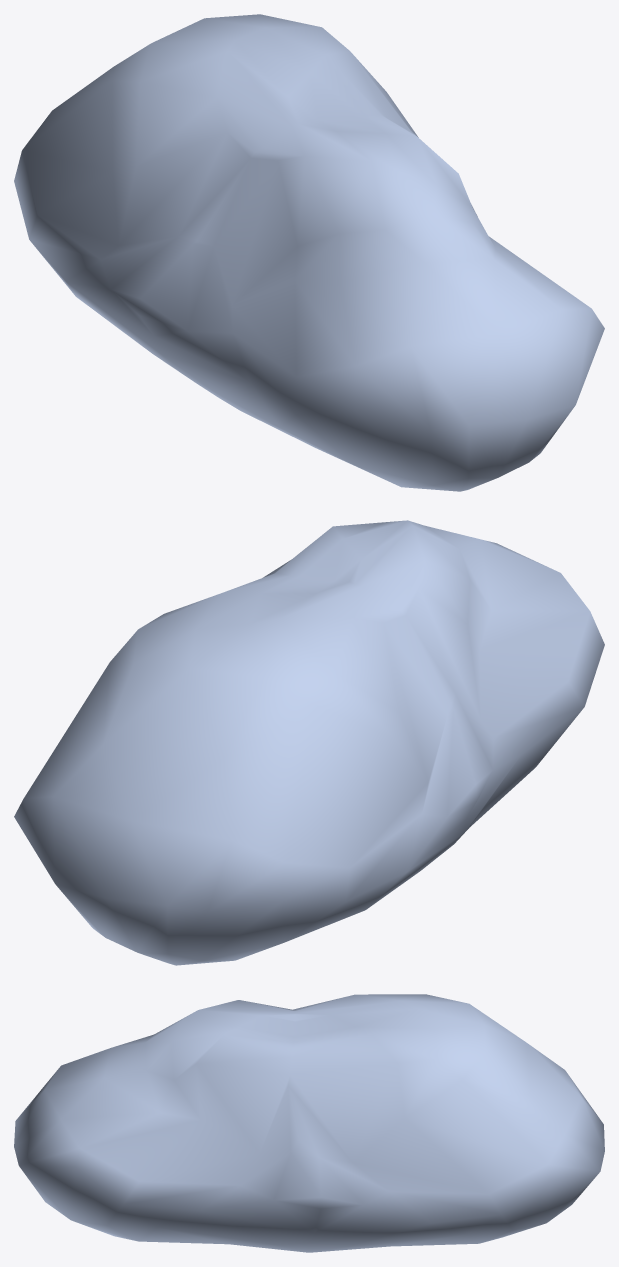
File: oblak2.fbx
3 views of the same model, one above another, from view 1: azimuth 30°, elevation 25°; view 2: azimuth 150°, elevation 25°; view 3: azimuth 270°, elevation 25° (orthographic). The views are drawn at different scales.
Parts seen in each view (by area): view 1: Icosphere; view 2: Icosphere; view 3: Icosphere.
Boxes of the visible parts, x1,y1,x2,y2 form: Icosphere: (14, 14, 604, 491); Icosphere: (14, 520, 604, 965); Icosphere: (14, 994, 604, 1252).
Size of the model in its own units: 815 by 716 by 1676.
